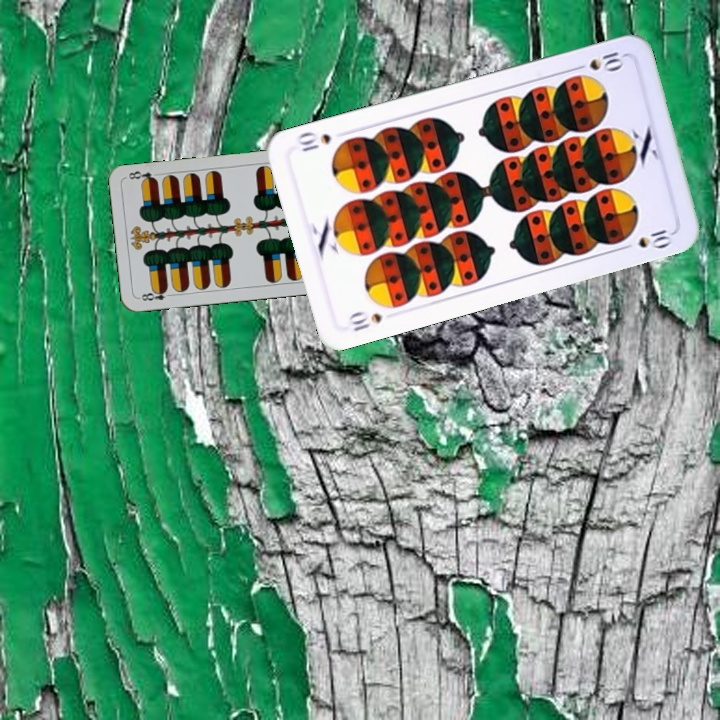E8: (135, 285, 176, 303)
S10: (569, 47, 627, 73), (345, 308, 386, 334)
